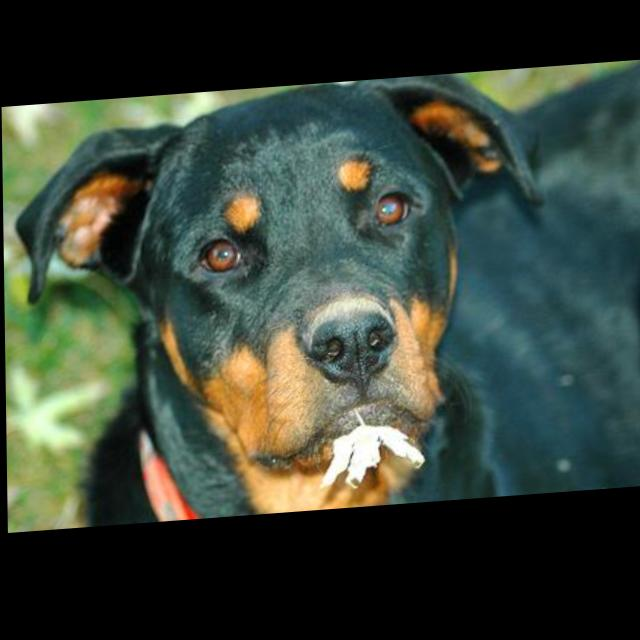rottweiler: (13, 71, 640, 533)
